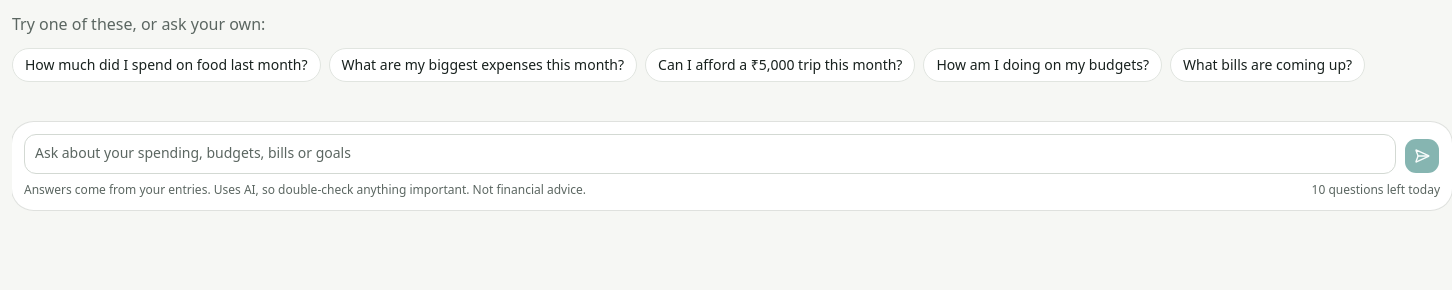
Test: money chat › shows the answer, what it looked up and the questions left
This screenshot has width=1452, height=290.
Type "How much on groceries?" into the text box named "Your question" at (710,154), box 24,134 -> 1396,174
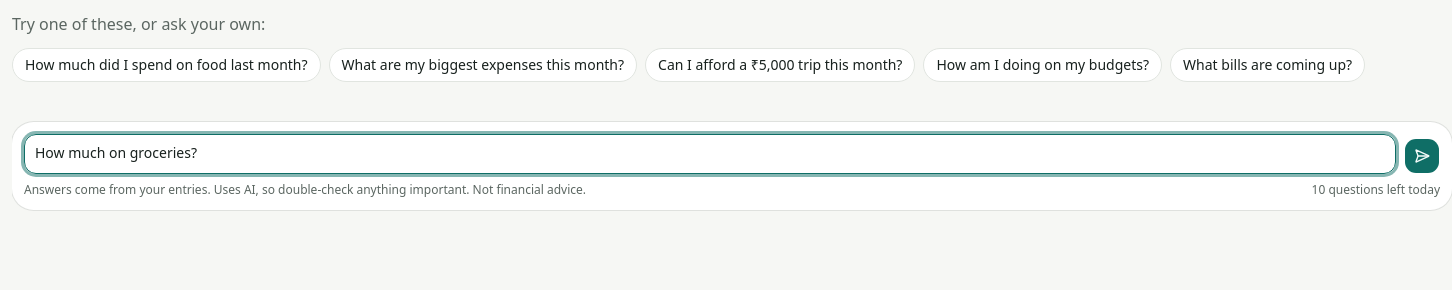
Click the button named "Send" at (1422,156), box 1404,138 -> 1440,174
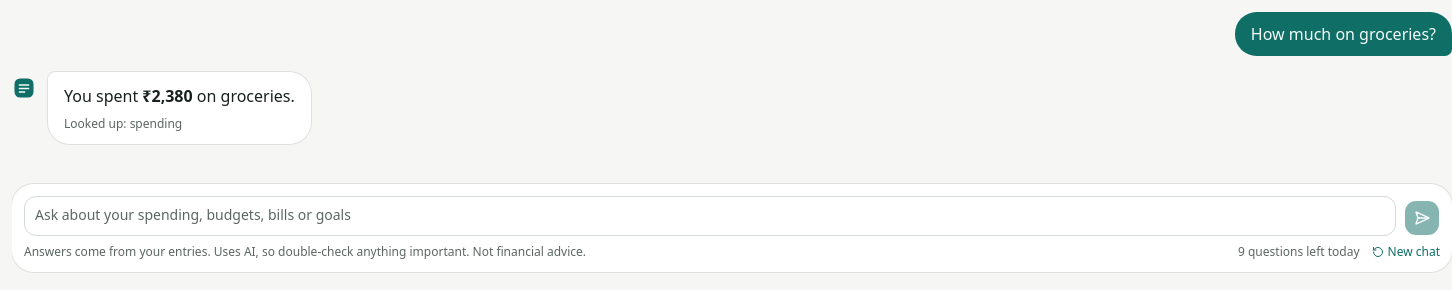
expect the text "₹2,380" is shown: met, box 142,85 -> 193,107
expect the text "Looked up: spending" is shown: met, box 64,115 -> 182,132
expect the text "9 questions left today New chat" is shown: met, box 1238,244 -> 1440,260
